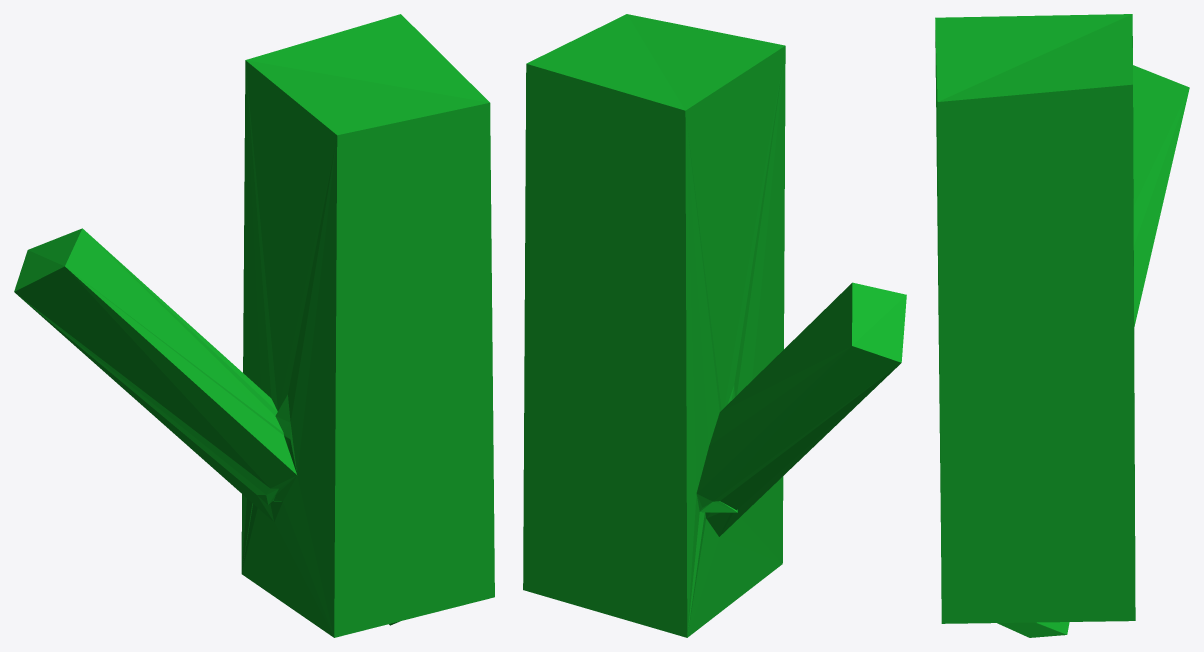
The picture shows the model from 3 angles, left to right: view 1: azimuth 30°, elevation 25°; view 2: azimuth 150°, elevation 25°; view 3: azimuth 270°, elevation 25°; orthographic projection. The views are drawn at different scales.
Visible parts, largest first — view 1: 773_Cube.3113; view 2: 773_Cube.3113; view 3: 773_Cube.3113.
Boxes of the visible parts, x1,y1,x2,y2 form: 773_Cube.3113: [14, 14, 494, 637]; 773_Cube.3113: [523, 14, 906, 637]; 773_Cube.3113: [935, 14, 1189, 637].
Bounding box in the file's own units: 9.3 × 13.13 × 5.19.
